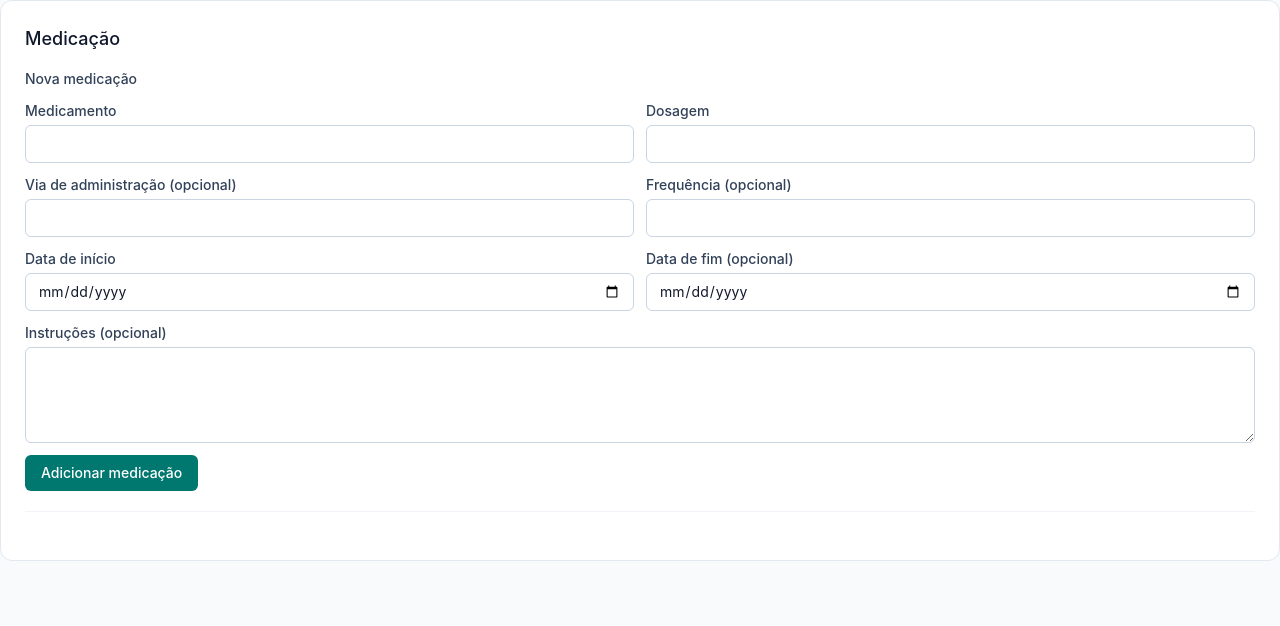
MedicationsSection › create › blocks an empty submit with field-level messages and no request
Click the button "Adicionar medicação": {"x": 112, "y": 473} [25, 455, 198, 491]
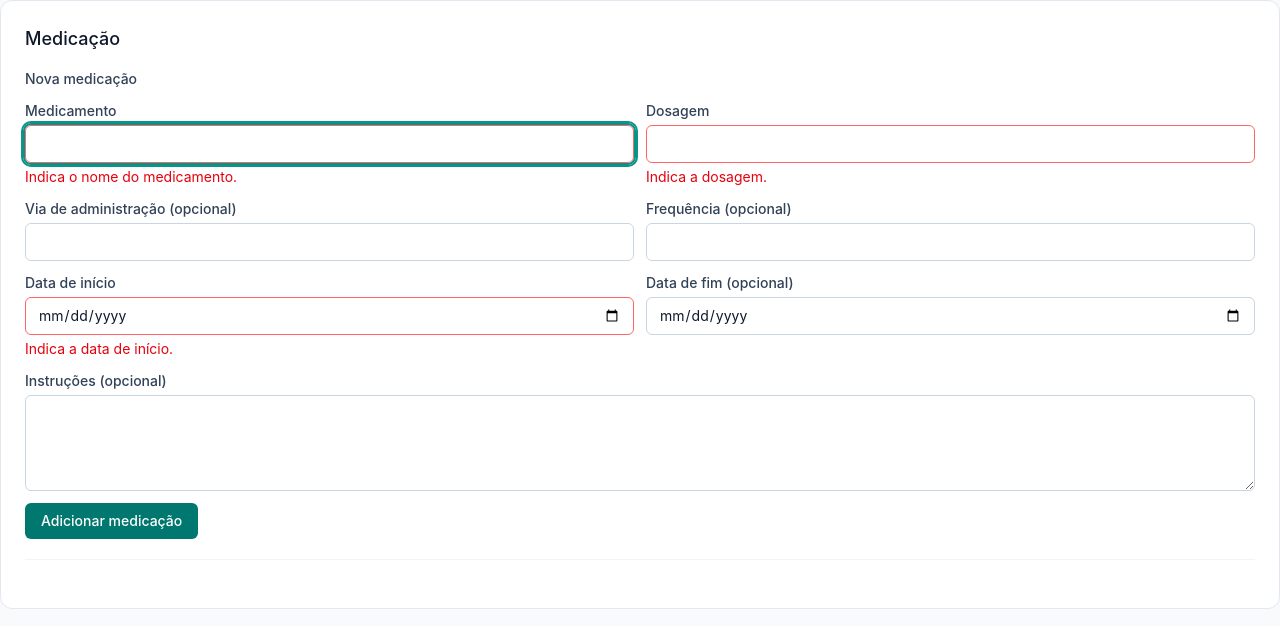
Result: the text "Indica o nome do medicamento." is shown at [25, 168, 237, 185]
Result: the text "Indica a dosagem." is shown at [646, 168, 767, 185]
Result: the text "Indica a data de início." is shown at [25, 340, 173, 357]
